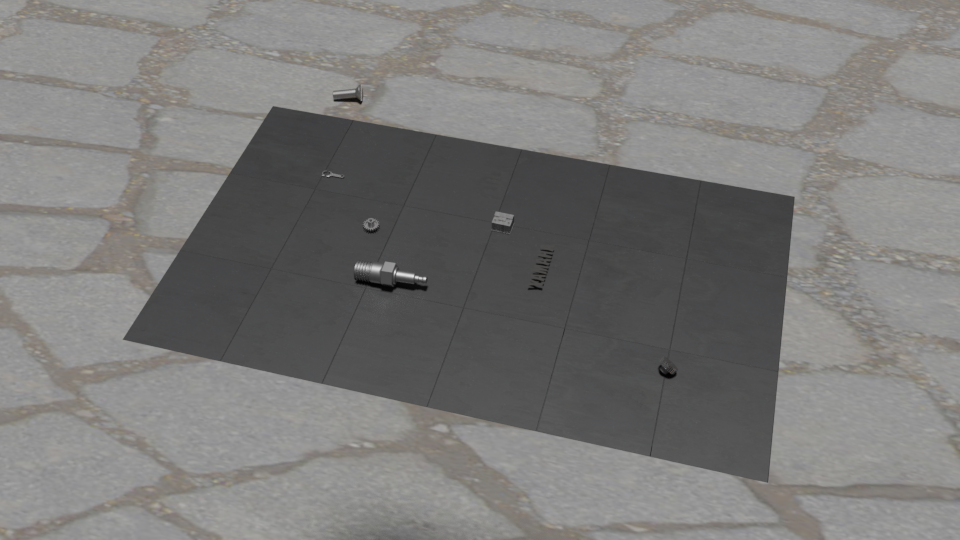yamaha_letters: (527, 244, 555, 286)
